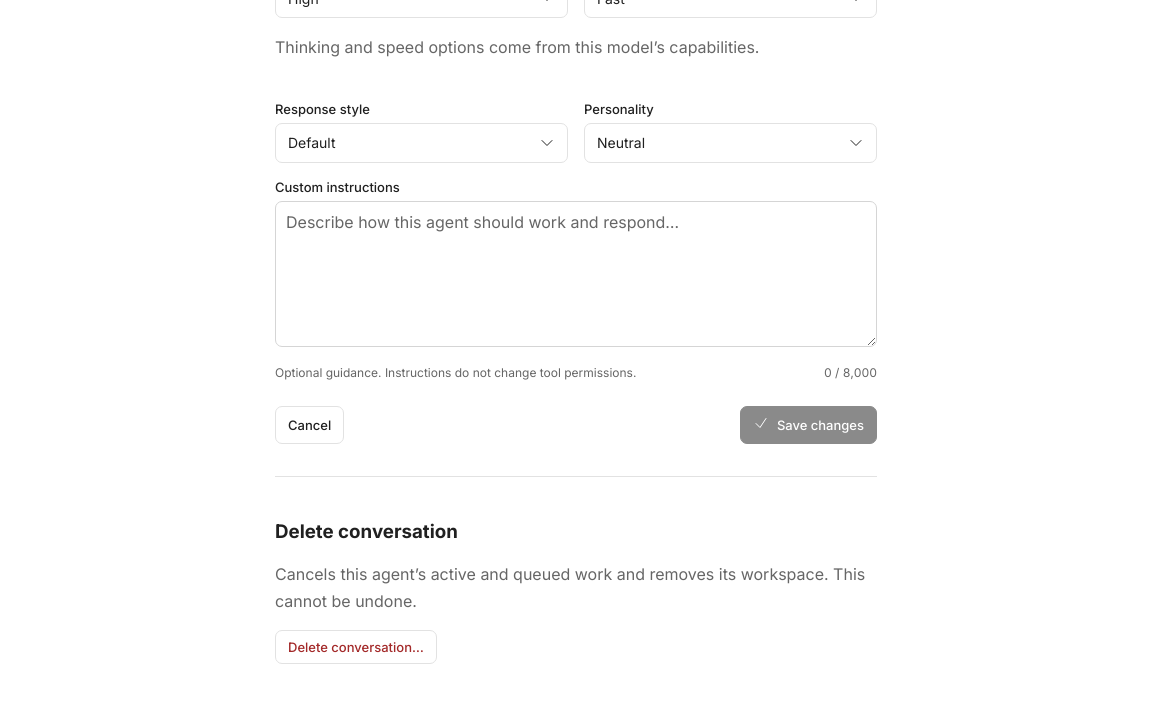
it: renders a visible 16px outline icon in the confirmation action without deleting on open
(page scrolled)
Click the button "Delete conversation…" at x=356, y=647, box [275,630,437,664]
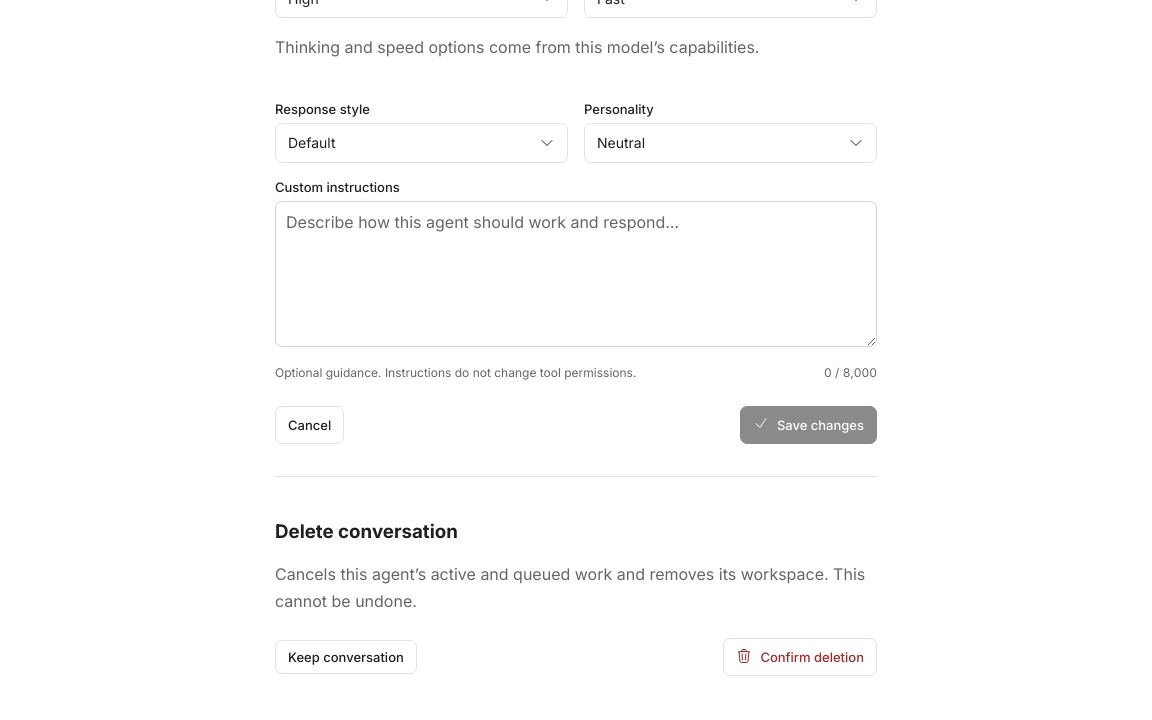
Check: the 6th icon is shown, box [736,648,752,664]
